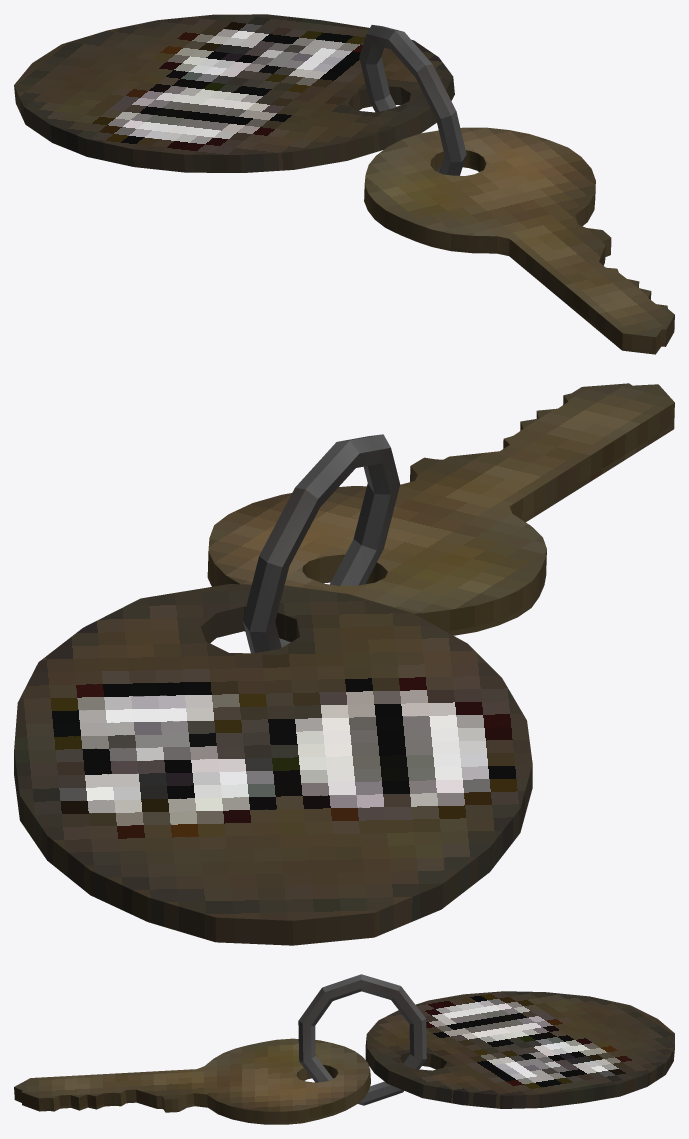
File: key_2.obj
3 views of the same model, one above another, from view 1: azimuth 30°, elevation 25°; view 2: azimuth 150°, elevation 25°; view 3: azimuth 270°, elevation 25° (orthographic). The views are drawn at different scales.
Visible parts, largest first — view 1: key_2; view 2: key_2; view 3: key_2.
Boxes of the visible parts, box(x1,y1,x2,y2) form: key_2: box(14, 14, 674, 354); key_2: box(14, 383, 674, 945); key_2: box(14, 974, 674, 1124).
Bounding box in the file's own units: 0.0626 × 0.027 × 0.137.
